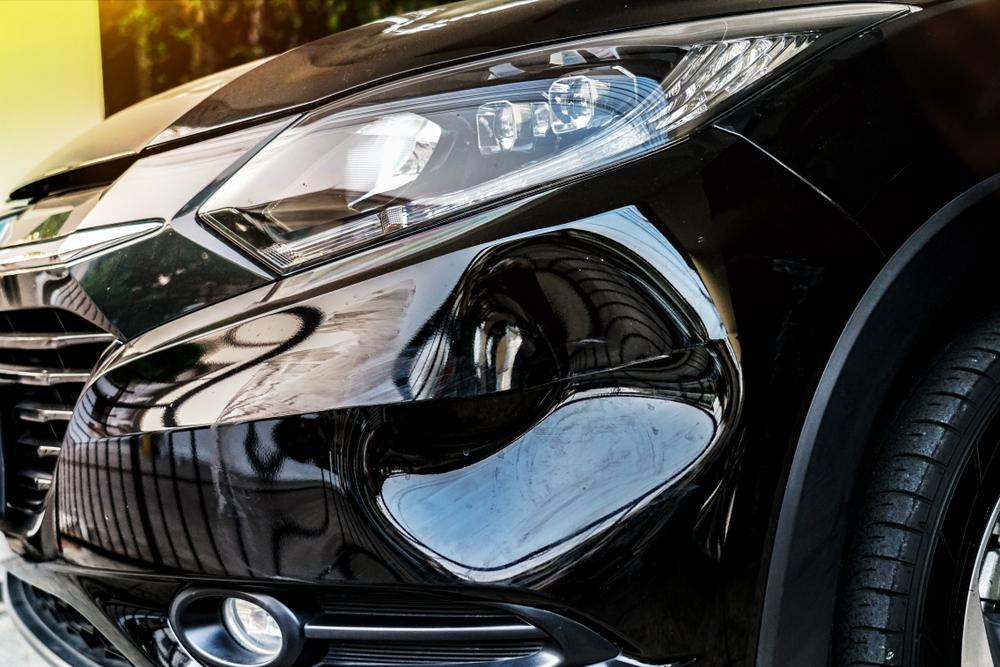dent: (357, 228, 729, 575)
scratch: (206, 277, 420, 529)
